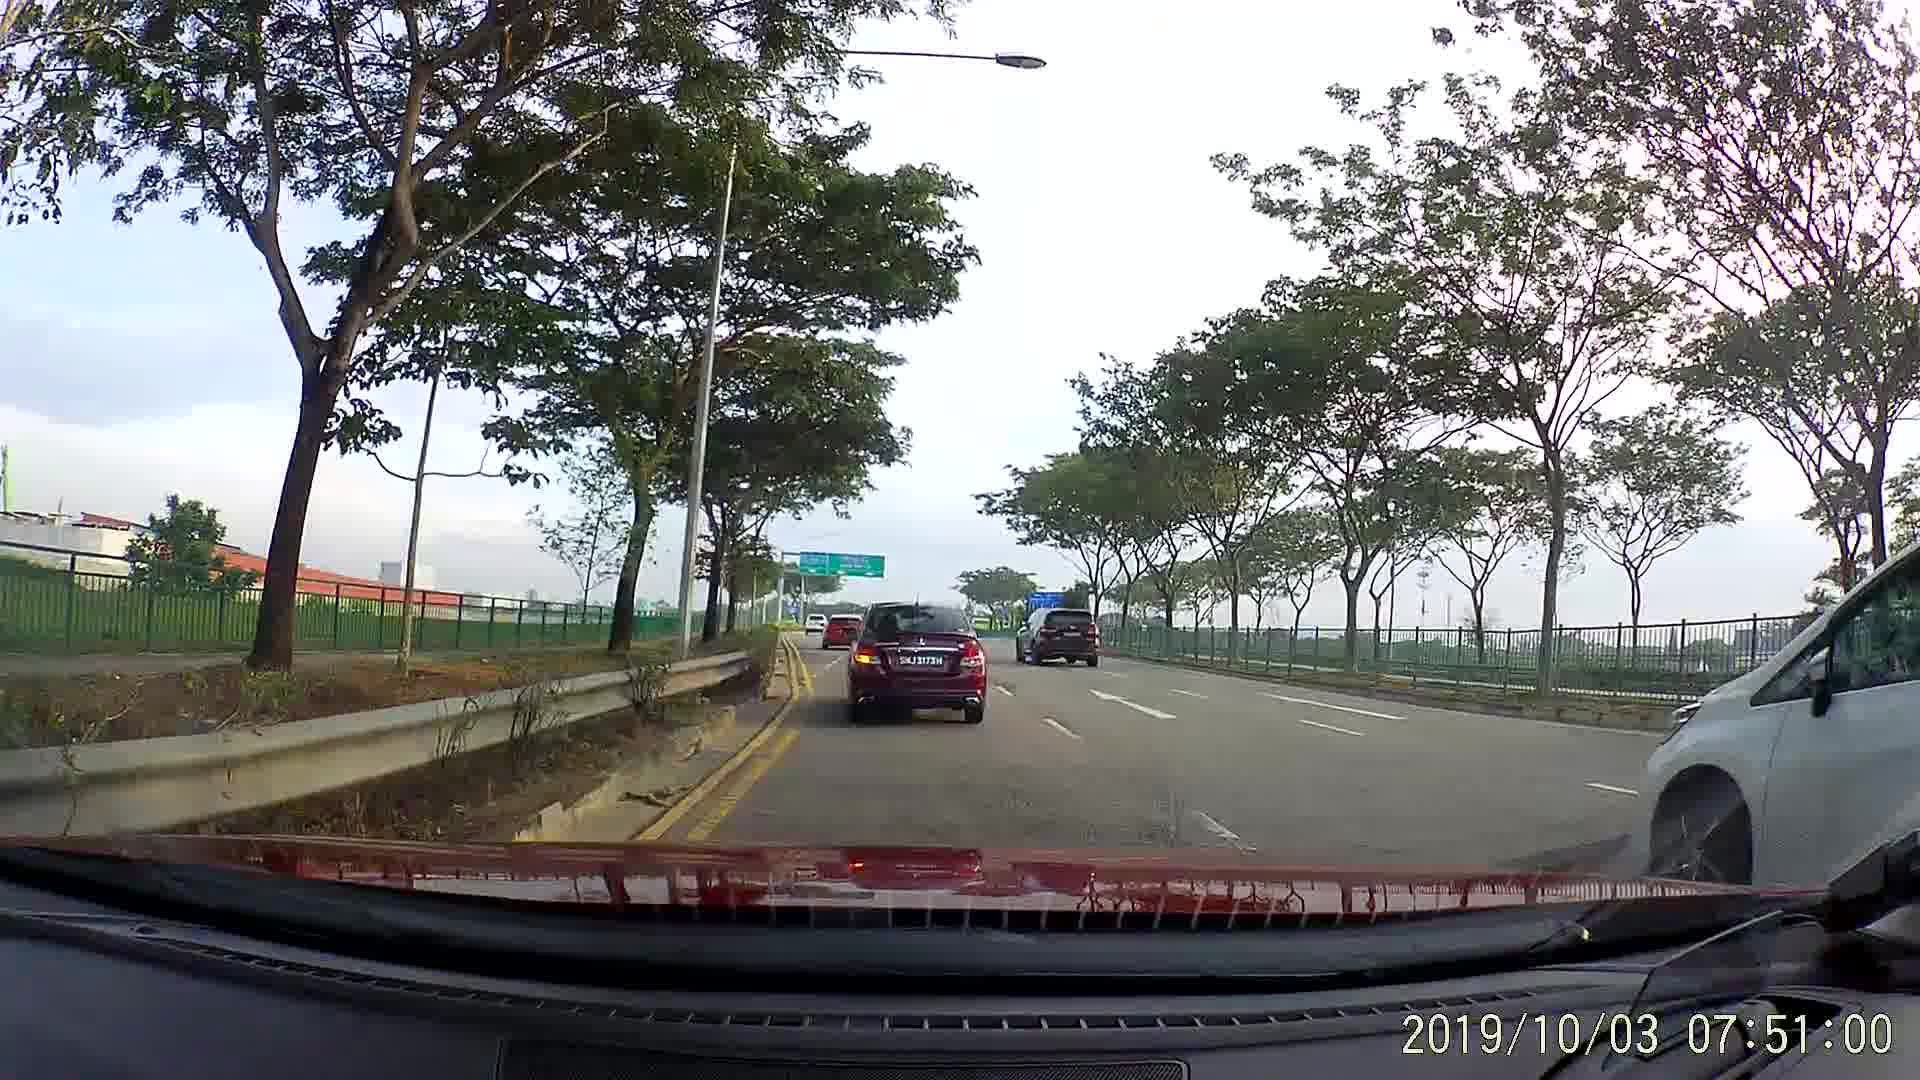car: (1626, 522, 1916, 882), (847, 599, 990, 728), (1015, 608, 1101, 674), (820, 613, 866, 653), (800, 611, 829, 638)
